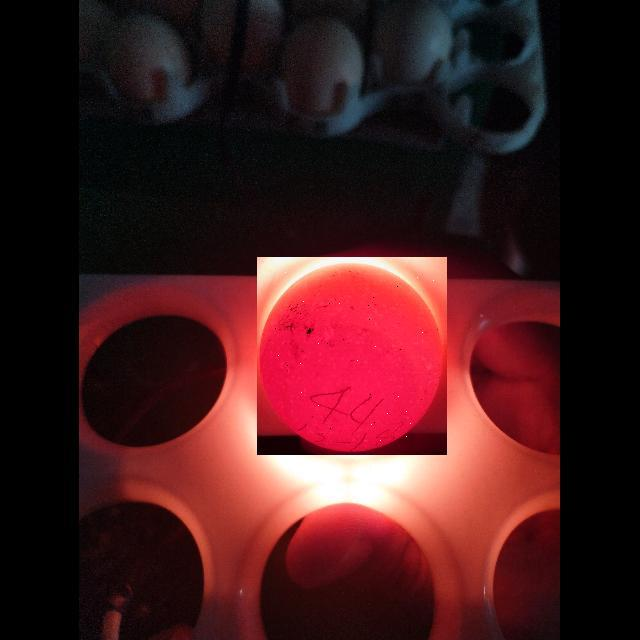Infertile: (257, 257, 447, 455)
